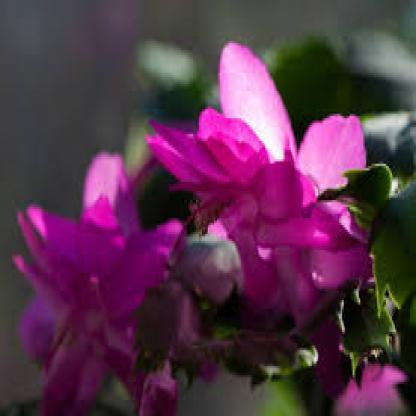Aglonema: (23, 33, 406, 318)
